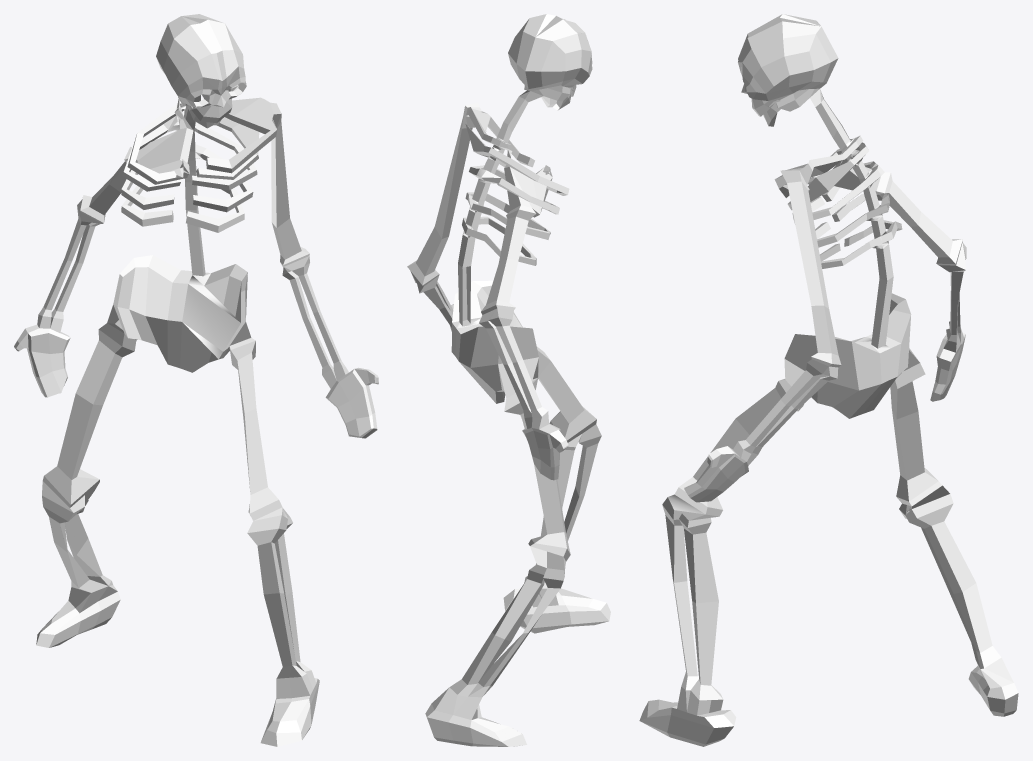
Rendered from SkeletonIdle(119).obj.
The picture shows the model from 3 angles, left to right: view 1: azimuth 30°, elevation 25°; view 2: azimuth 150°, elevation 25°; view 3: azimuth 270°, elevation 25°; orthographic projection. The views are drawn at different scales.
Parts seen in each view (by area): view 1: Object002; view 2: Object002; view 3: Object002.
Boxes of the visible parts, x1,y1,x2,y2 form: Object002: (14,14,378,746); Object002: (407,14,610,746); Object002: (639,14,1018,746).
Size of the model in its own units: 420 by 1122 by 556.
